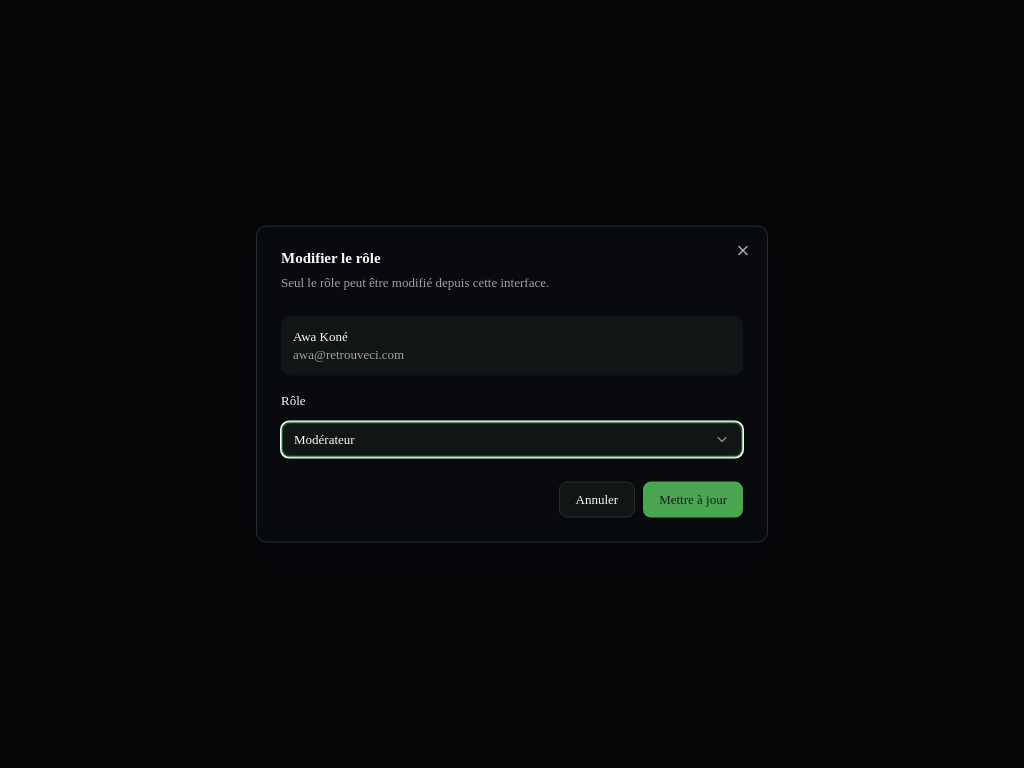
AdminRoleDialog › renders a root error and keeps the dialog open
Step 1. Click the button "Mettre à jour" → (693,499), box [643, 481, 743, 517]
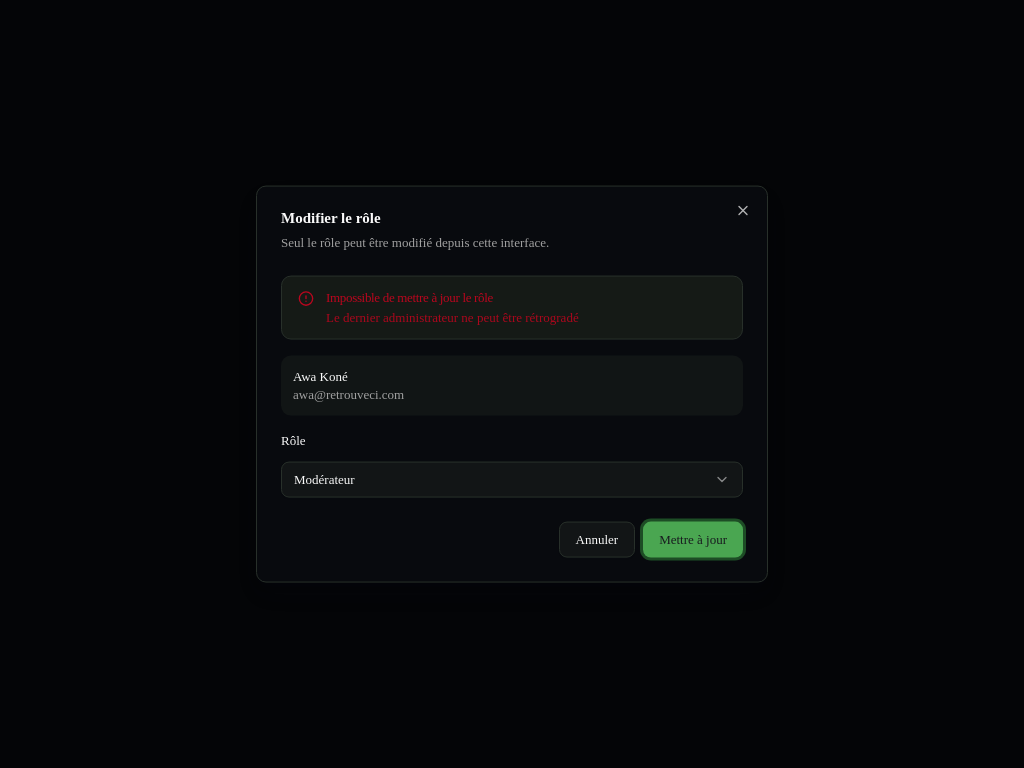
Check: the text "Impossible de mettre à jour le rôle" is shown, box [326, 290, 493, 305]
Check: the text "Le dernier administrateur ne peut être rétrogradé" is shown, box [326, 310, 579, 325]
